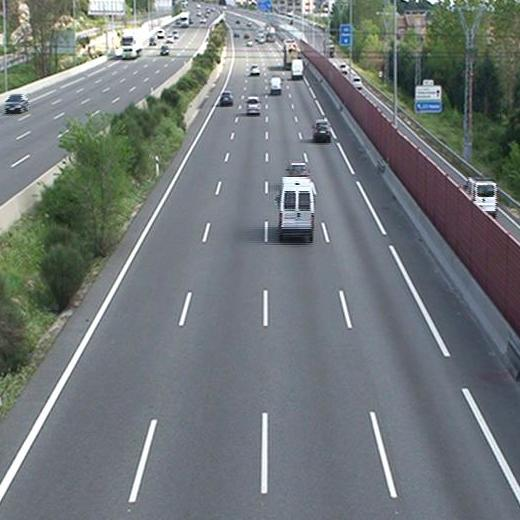car: (311, 121, 332, 143), (245, 96, 261, 116), (219, 90, 234, 106), (250, 63, 261, 76)
van: (279, 176, 315, 239), (290, 60, 305, 79), (270, 77, 283, 95)
